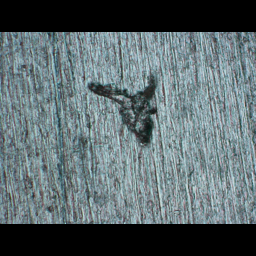d: (85, 69, 161, 148)
